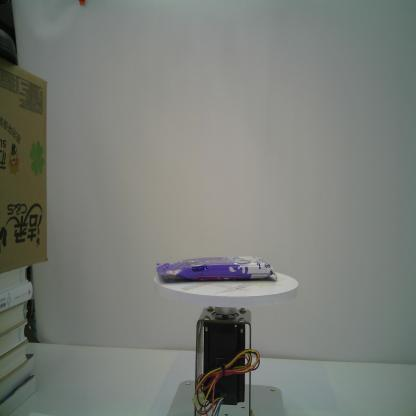Candy: (156, 256, 278, 282)
